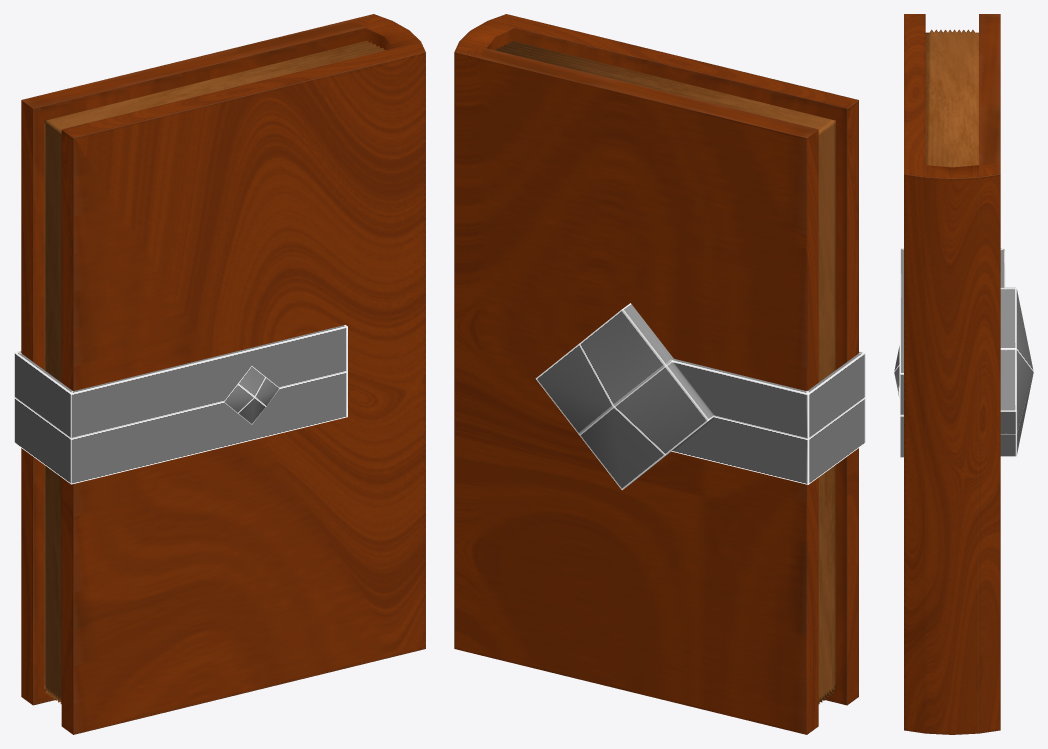
Rendered from Book.fbx.
The picture shows the model from 3 angles, left to right: view 1: azimuth 30°, elevation 25°; view 2: azimuth 150°, elevation 25°; view 3: azimuth 270°, elevation 25°; orthographic projection. The views are drawn at different scales.
Visible parts, largest first — view 1: Book, Lock, Symbol; view 2: Book, Lock; view 3: Book, Lock.
Part boxes in pixels (x1=…): Book: x1=21, y1=14, x2=425, y2=734; Lock: x1=14, y1=325, x2=347, y2=484; Symbol: x1=224, y1=366, x2=279, y2=424; Book: x1=454, y1=14, x2=858, y2=734; Lock: x1=535, y1=303, x2=865, y2=489; Book: x1=904, y1=14, x2=1000, y2=734; Lock: x1=899, y1=248, x2=1033, y2=457.
Bounding box in the file's own units: 162 × 252 × 57.4.
Materials: 1 (1 with a texture image).
